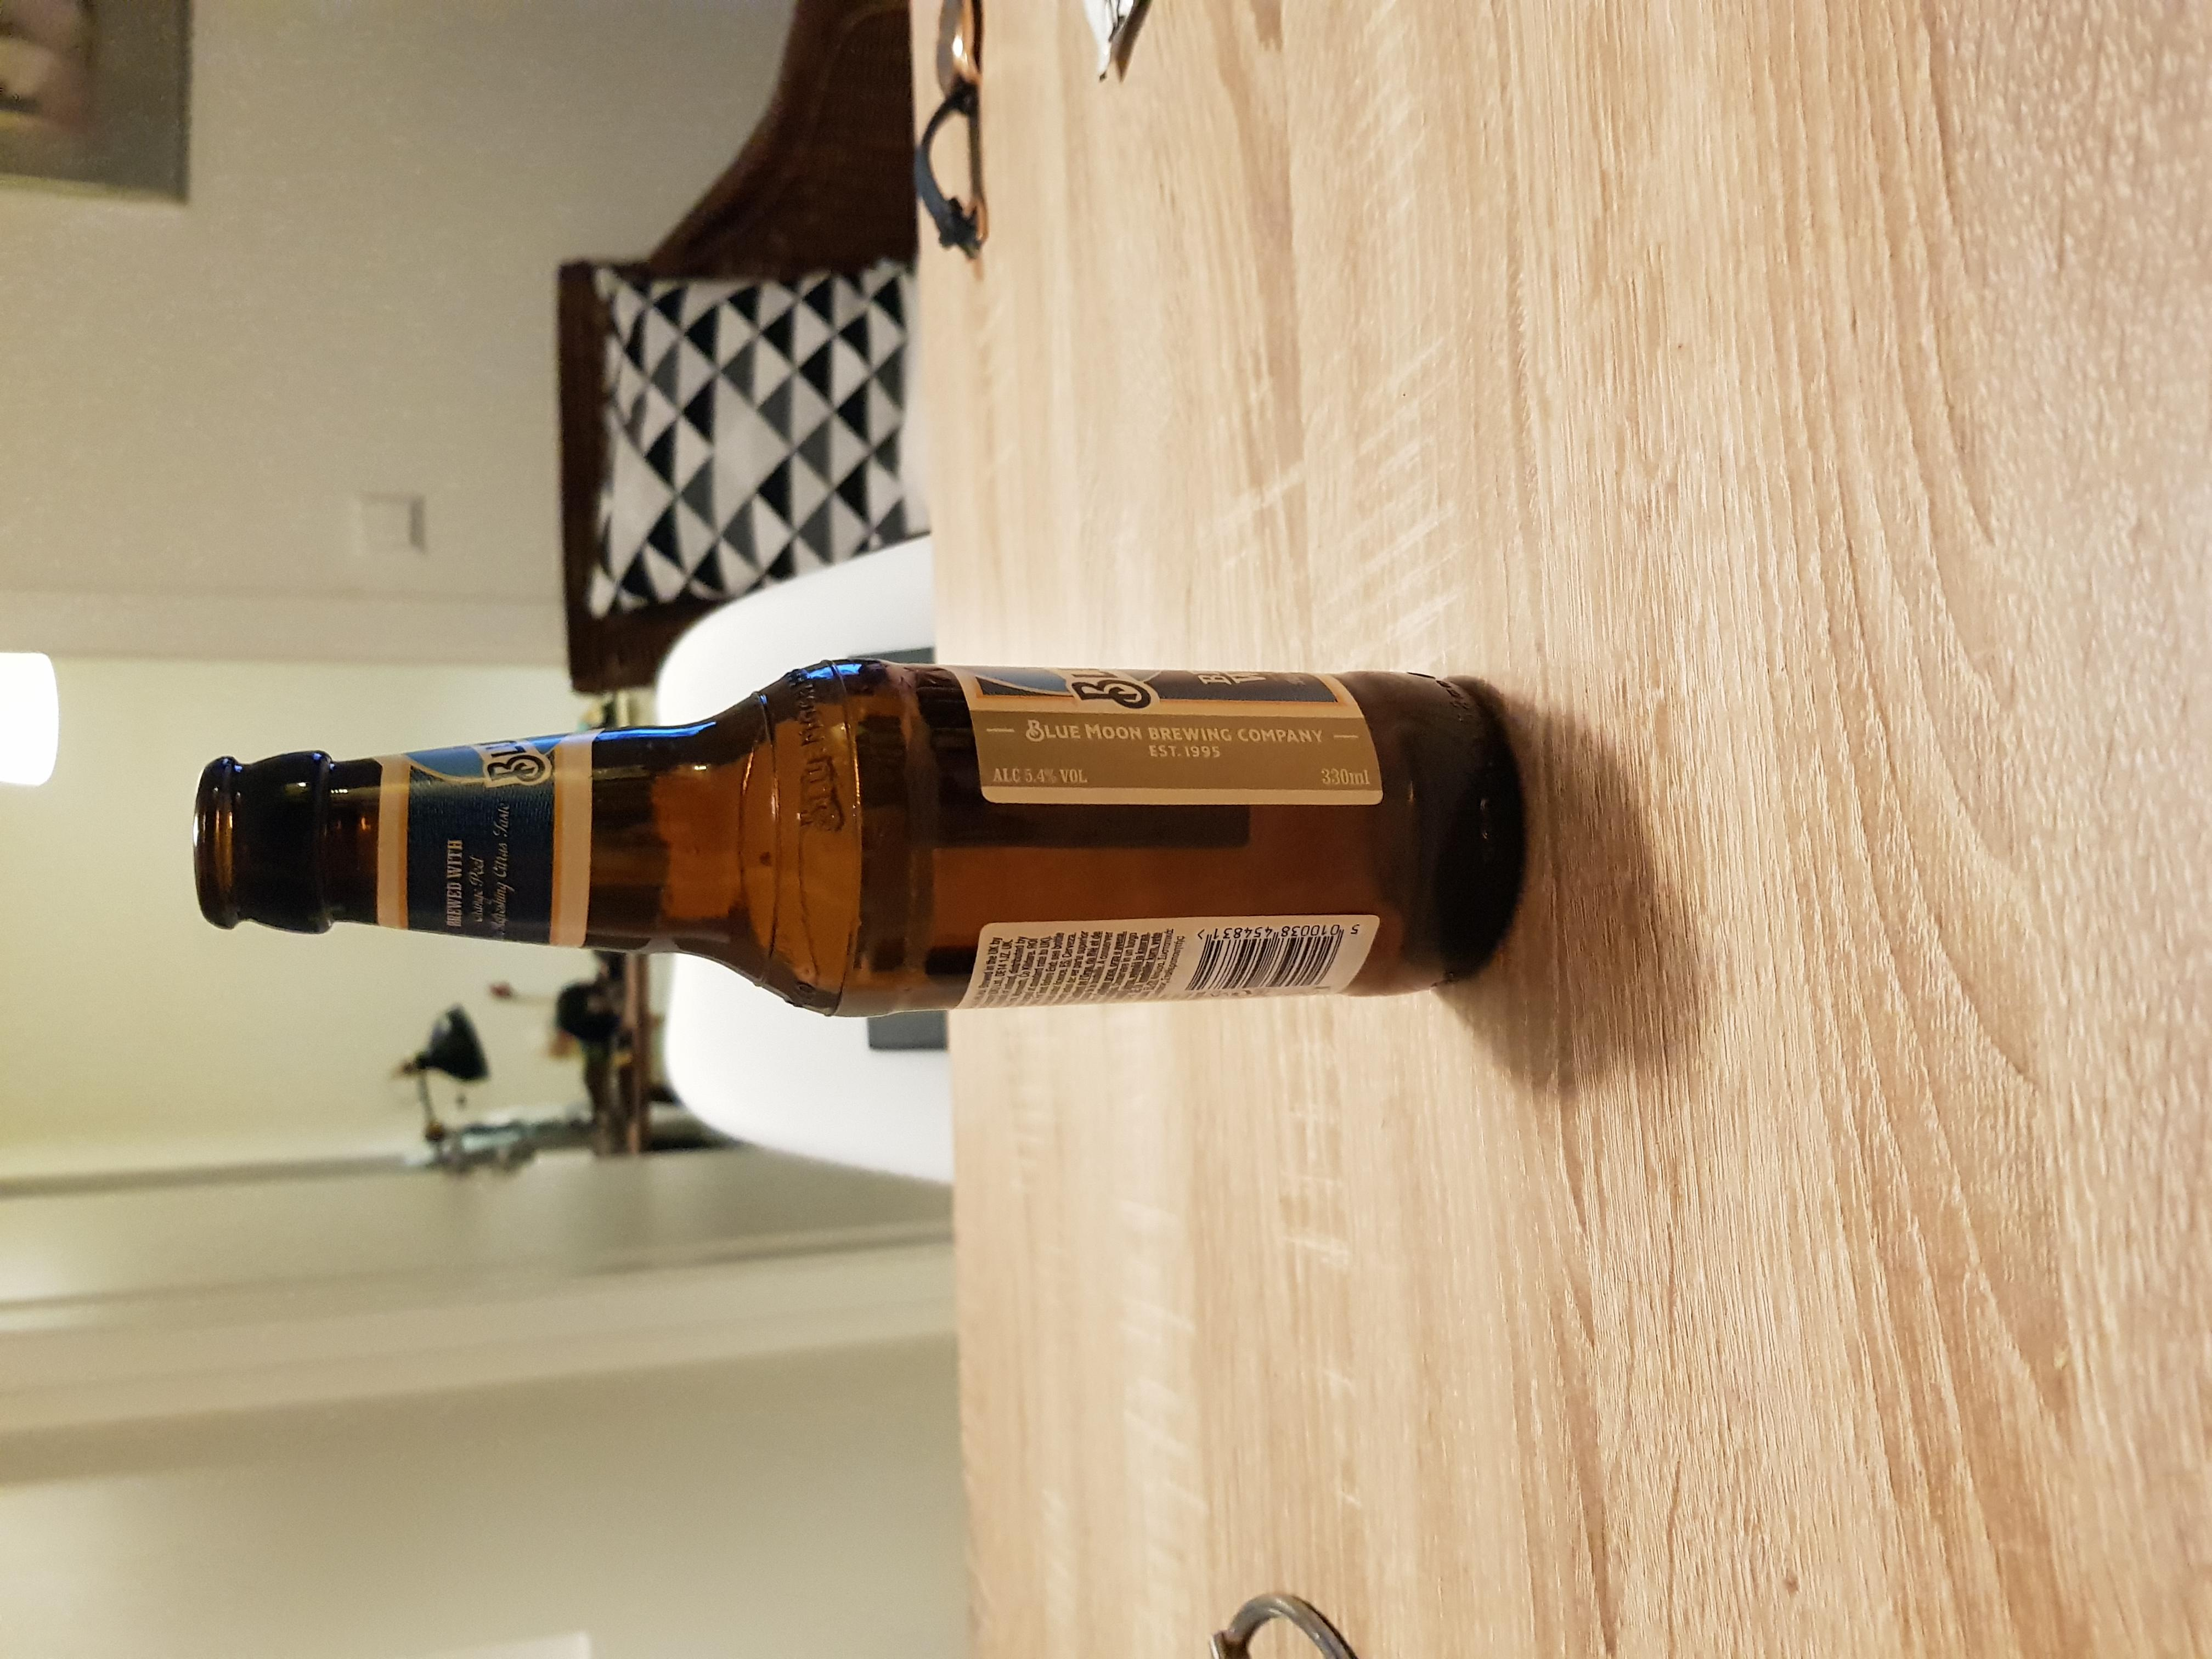Bottle: (193, 657, 1541, 1033)
